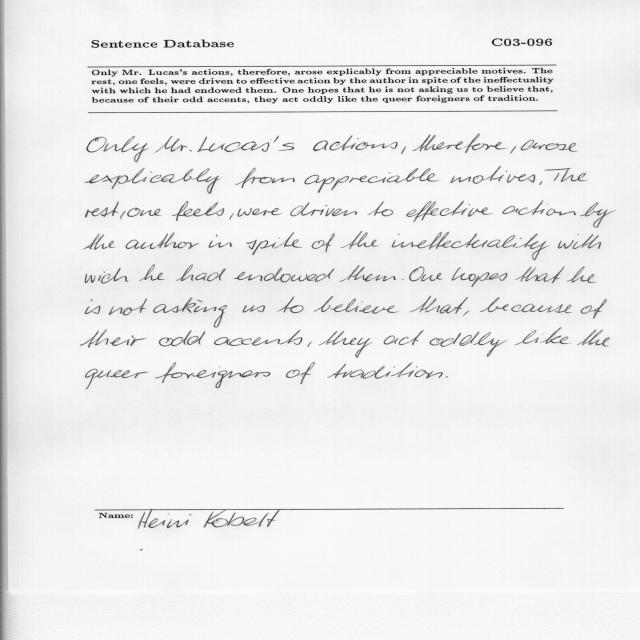word: (392, 232, 549, 260), (85, 168, 220, 194), (304, 168, 438, 193), (155, 363, 270, 389), (153, 298, 227, 328), (430, 331, 507, 357), (327, 362, 443, 379), (406, 201, 493, 222), (412, 134, 508, 153), (87, 136, 149, 162), (198, 136, 295, 152), (314, 296, 399, 314), (451, 166, 535, 184), (234, 268, 334, 283), (480, 297, 572, 313), (313, 135, 398, 152), (319, 331, 372, 358), (214, 330, 302, 346), (246, 232, 303, 255), (85, 369, 149, 389), (126, 232, 199, 249), (235, 168, 295, 188), (81, 330, 146, 348), (452, 267, 508, 287), (502, 201, 576, 216), (409, 296, 468, 314), (172, 201, 224, 221), (339, 265, 396, 282), (290, 203, 357, 217), (580, 202, 616, 228), (515, 328, 569, 345), (176, 265, 226, 282), (515, 267, 565, 283), (159, 330, 205, 347), (85, 268, 129, 284), (521, 140, 578, 152), (341, 231, 378, 249), (109, 299, 147, 316), (558, 234, 601, 249), (286, 362, 315, 384), (155, 136, 192, 153), (384, 330, 424, 345), (545, 168, 586, 182), (577, 330, 610, 347), (85, 201, 119, 217), (84, 233, 116, 250), (581, 299, 607, 319), (409, 267, 443, 282), (567, 266, 596, 283), (139, 264, 165, 281), (312, 233, 335, 252), (277, 297, 304, 313), (238, 208, 282, 217), (368, 201, 393, 216), (127, 208, 161, 217), (209, 235, 232, 248), (86, 299, 101, 314), (242, 305, 265, 313), (510, 146, 516, 154), (121, 211, 126, 219), (463, 311, 469, 317), (402, 147, 406, 155), (307, 341, 312, 347), (230, 213, 234, 220), (539, 181, 542, 185), (446, 376, 448, 378), (402, 279, 403, 280)
